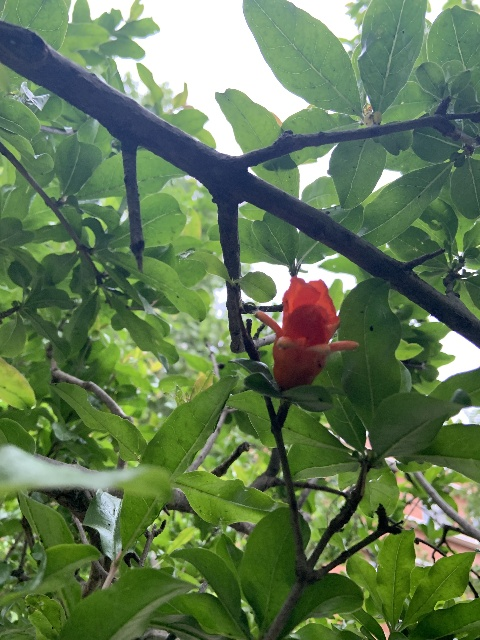flower: (255, 276, 359, 392)
